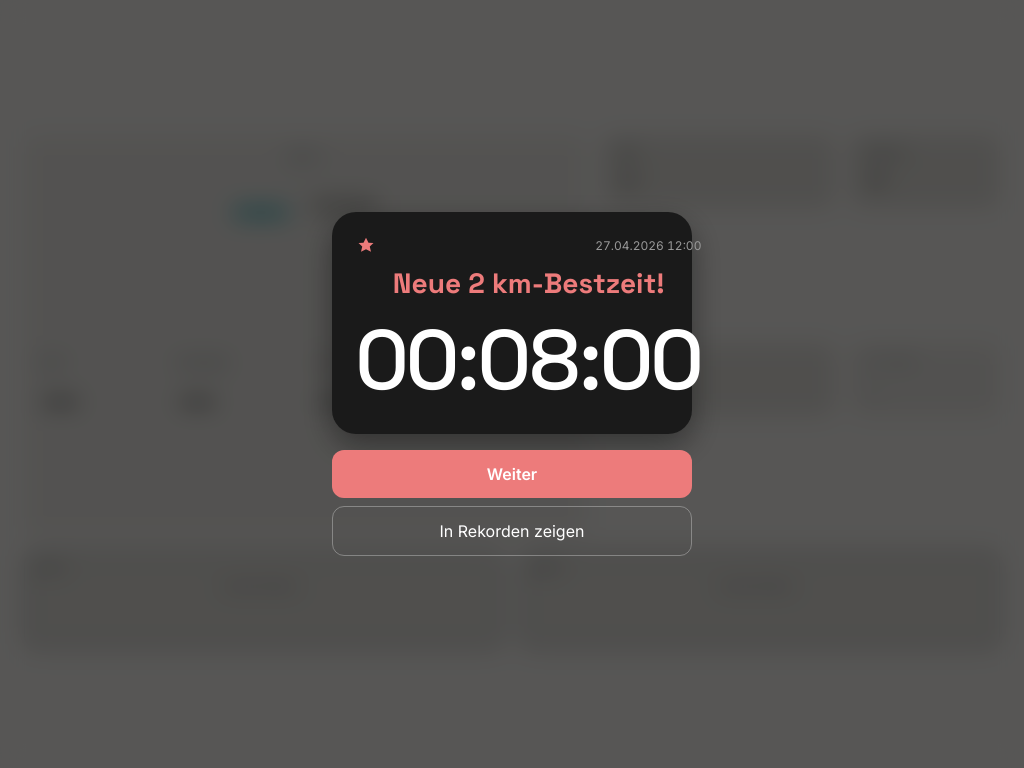
Test: LivePage session-end overlay › shows PBOverlay before SessionEndedOverlay when PBs exist; Weiter falls through to summary
// "Weiter" on the only PB dismisses overlay → summary appears.
Click the button "Weiter" at (512, 474), box [332,450,692,498]
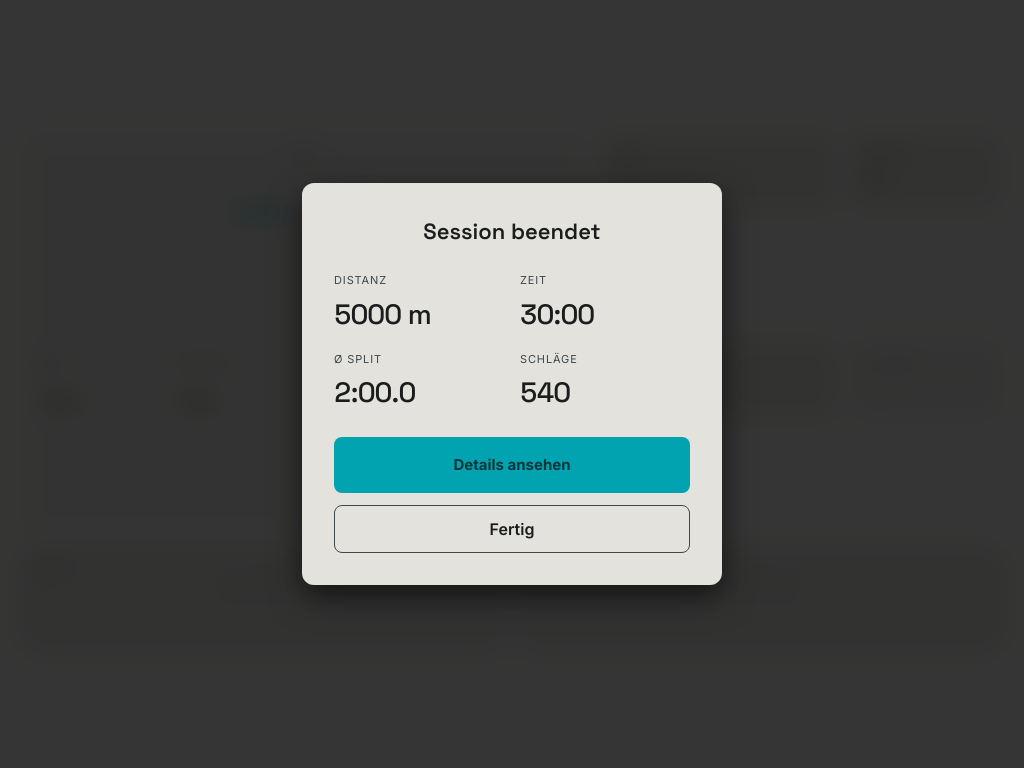
Expected: the dialog with test id "pb-overlay" is gone
Expected: the element with test id "session-ended-overlay" is shown, [302,183,722,585]
